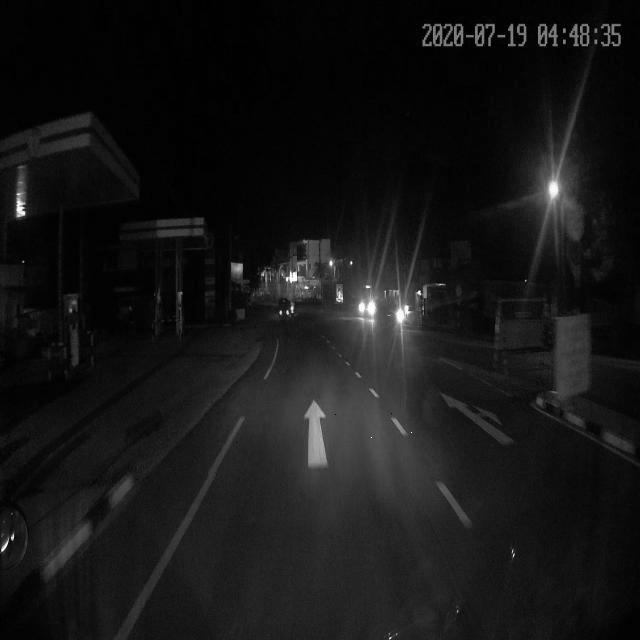forward: (205, 400, 429, 474)
